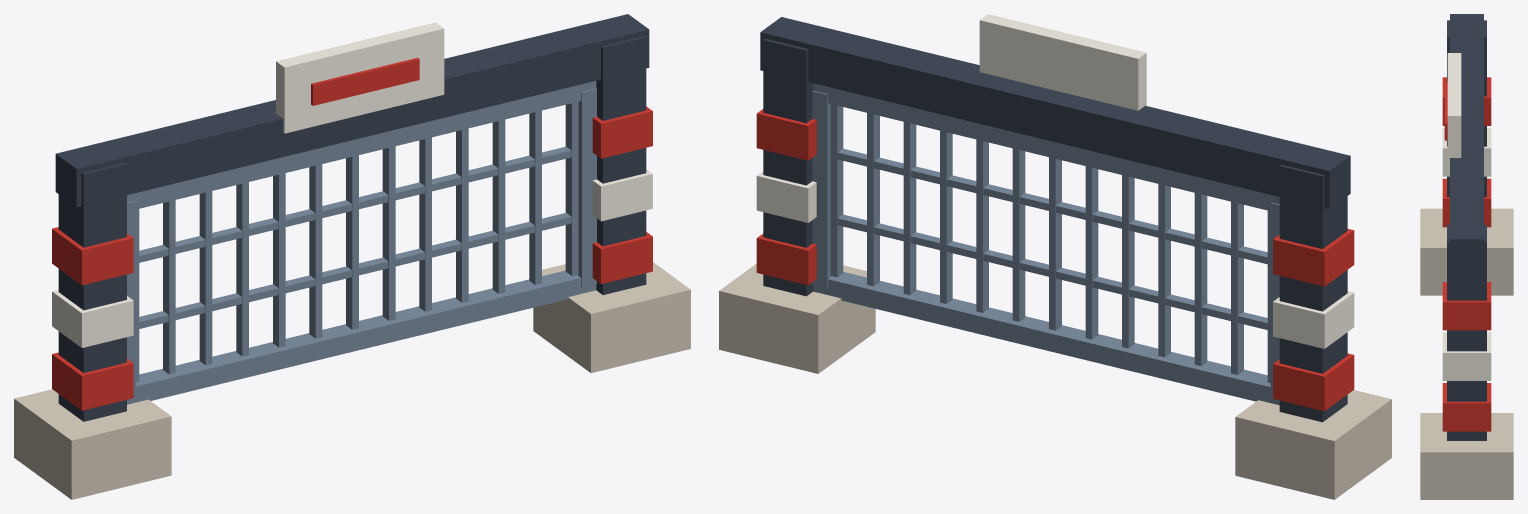
File: trackGate.glb
3 renders of one model, left to right at view 1: azimuth 30°, elevation 25°; view 2: azimuth 150°, elevation 25°; view 3: azimuth 270°, elevation 25°, orthographic. The views are drawn at different scales.
Visible parts, largest first — view 1: trackGate_steel, trackGate_steelDark, trackGate_concrete, trackGate_white, trackGate_red; view 2: trackGate_steel, trackGate_steelDark, trackGate_concrete, trackGate_white, trackGate_red; view 3: trackGate_steelDark, trackGate_concrete, trackGate_red, trackGate_white.
Part boxes in pixels (x1,y1,x2,y2): trackGate_steel: (127,81,596,404); trackGate_steelDark: (55,14,649,421); trackGate_concrete: (14,262,690,499); trackGate_white: (52,22,652,347); trackGate_red: (52,57,652,410); trackGate_steel: (812,83,1279,405); trackGate_steelDark: (760,17,1350,422); trackGate_concrete: (719,263,1391,499); trackGate_white: (756,14,1354,348); trackGate_red: (756,109,1354,411); trackGate_steelDark: (1447,14,1486,440); trackGate_concrete: (1420,208,1513,499); trackGate_red: (1442,77,1491,431); trackGate_white: (1442,53,1491,380).
Bounding box in the file's own units: 9.3 × 5.22 × 1.5.
